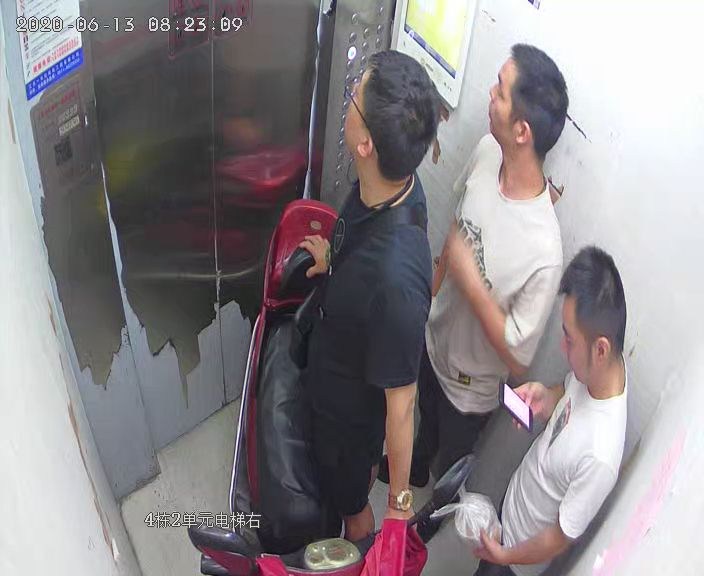Electric-bicycle: (187, 202, 472, 576)
